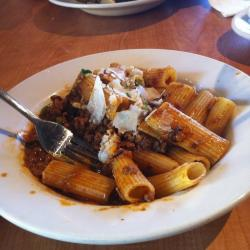bolonese_pasta: (31, 63, 229, 205)
